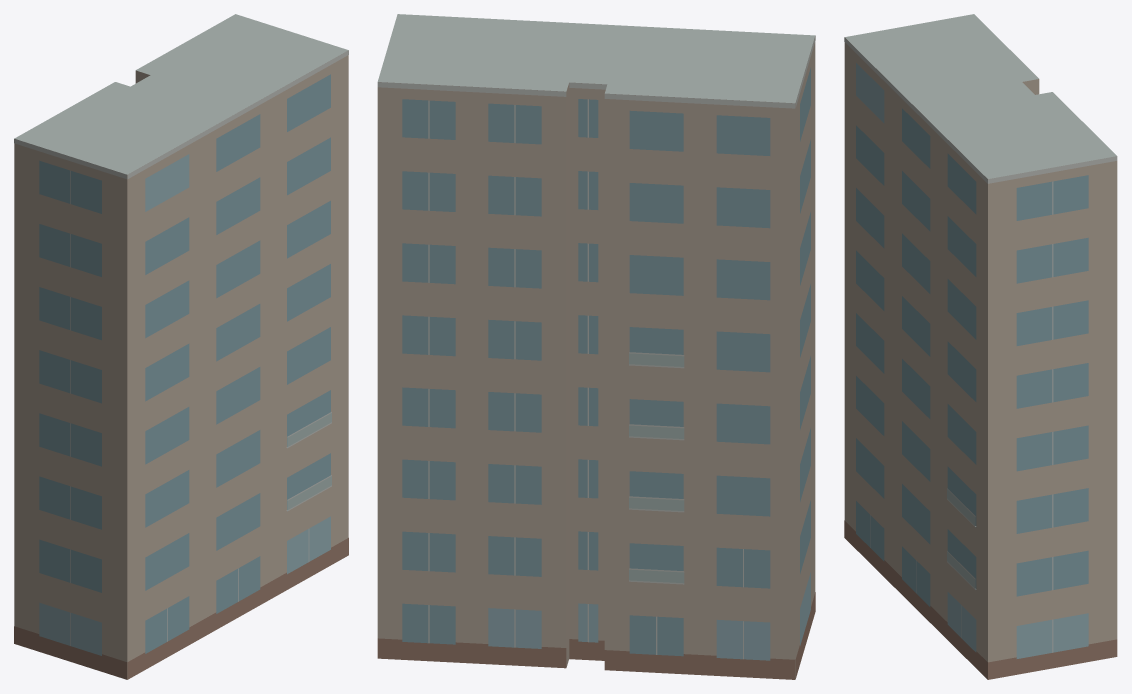
File: survey-upis-32999225.glb
3 views of the same model, side by side, from view 1: azimuth 30°, elevation 25°; view 2: azimuth 150°, elevation 25°; view 3: azimuth 270°, elevation 25° (orthographic). The views are drawn at different scales.
Parts seen in each view (by area): view 1: survey-upis-32999225.tmp; view 2: survey-upis-32999225.tmp; view 3: survey-upis-32999225.tmp.
Part boxes in pixels (bbox=[...]): survey-upis-32999225.tmp: bbox=[14, 14, 348, 679]; survey-upis-32999225.tmp: bbox=[377, 14, 815, 679]; survey-upis-32999225.tmp: bbox=[844, 14, 1117, 679].
Size of the model in its own units: 18.55 by 26.2 by 12.95.
